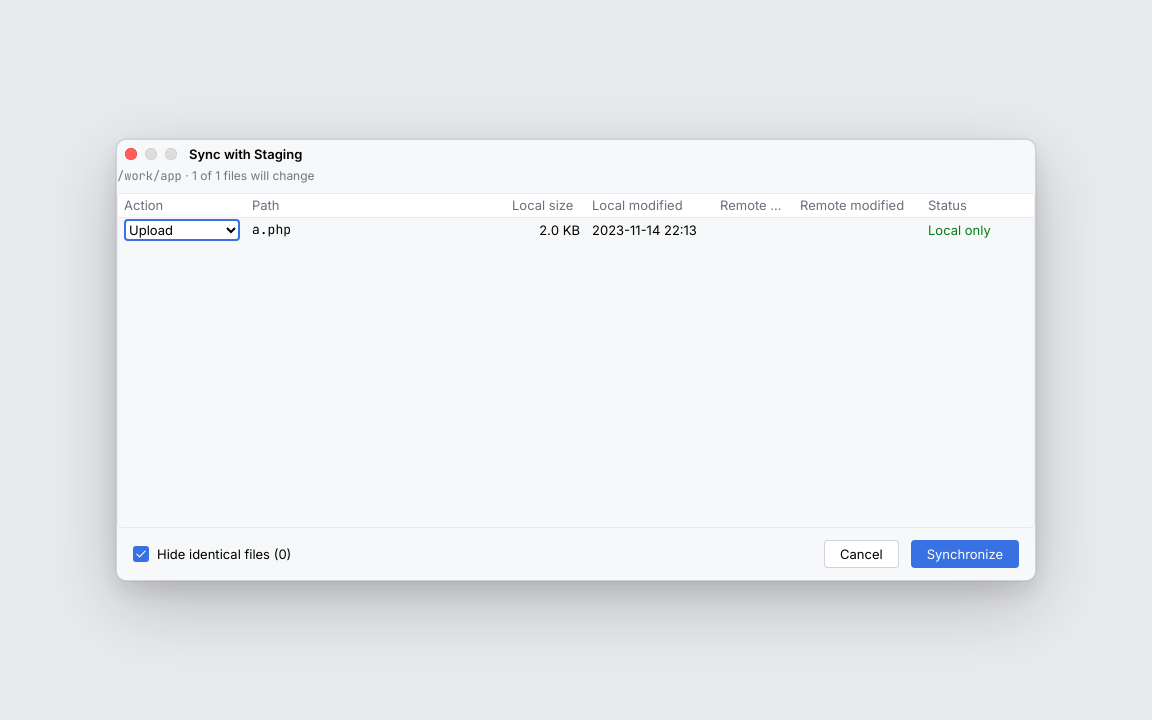
Scenario: Sync dialog › updates the choice of a row
The image size is (1152, 720).
Select "Skip" in the dropdown named "Action a.php" at (182, 230), box [124, 219, 240, 241]
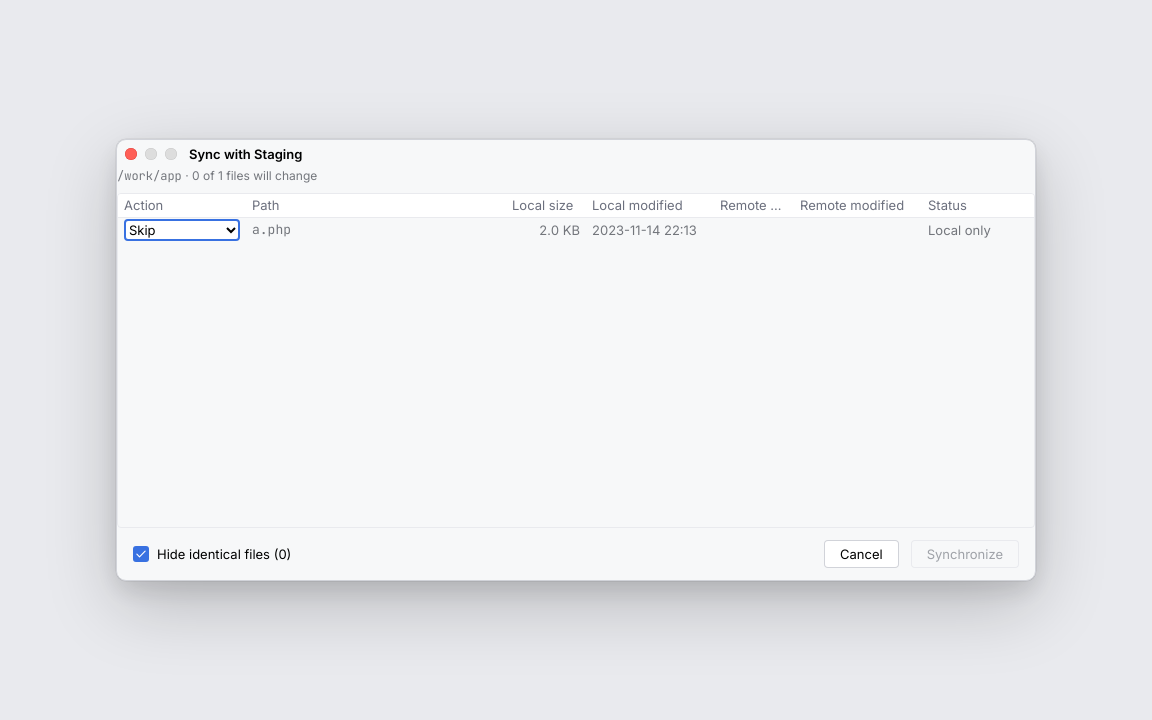
Check: the button "Synchronize" is disabled, box [911, 540, 1019, 568]
